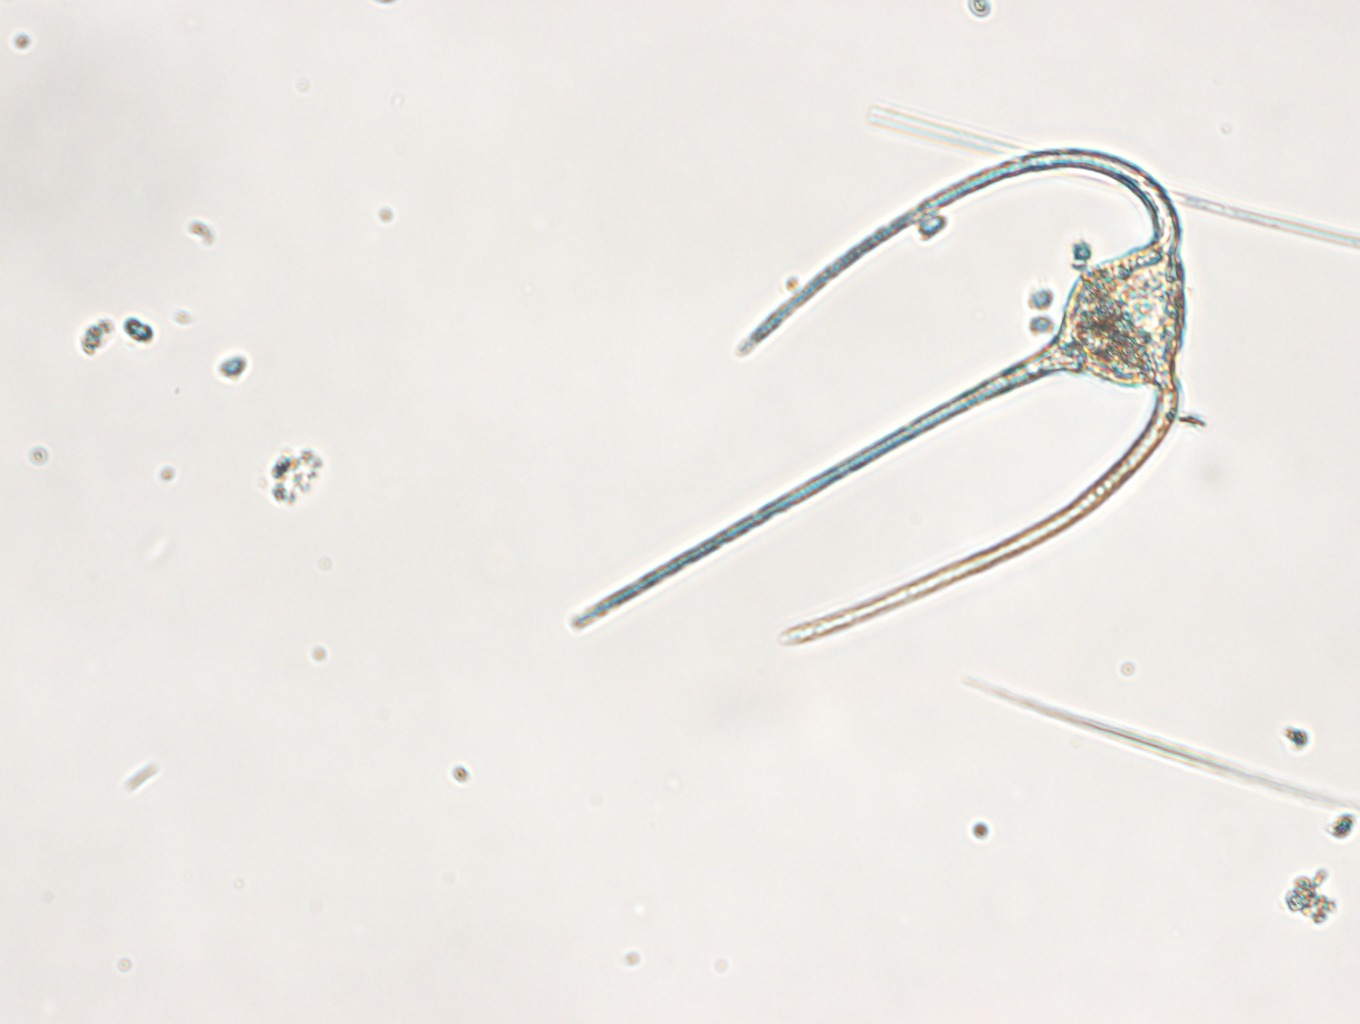ceratium trichoceros: (569, 145, 1188, 648)
